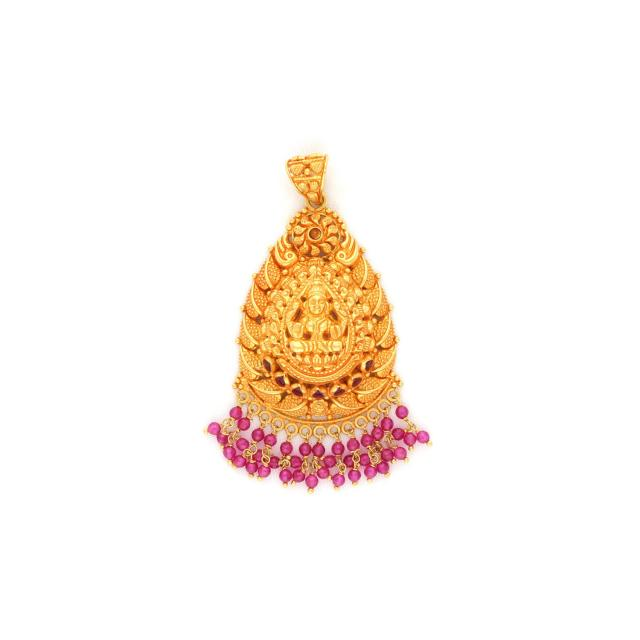missing gem: (309, 228, 321, 239)
